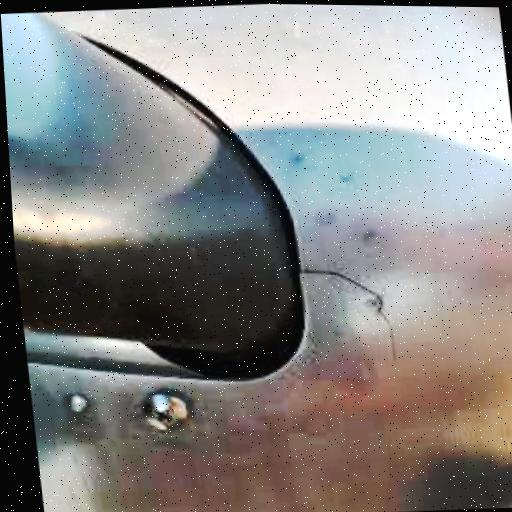crack: (300, 254, 402, 361)
